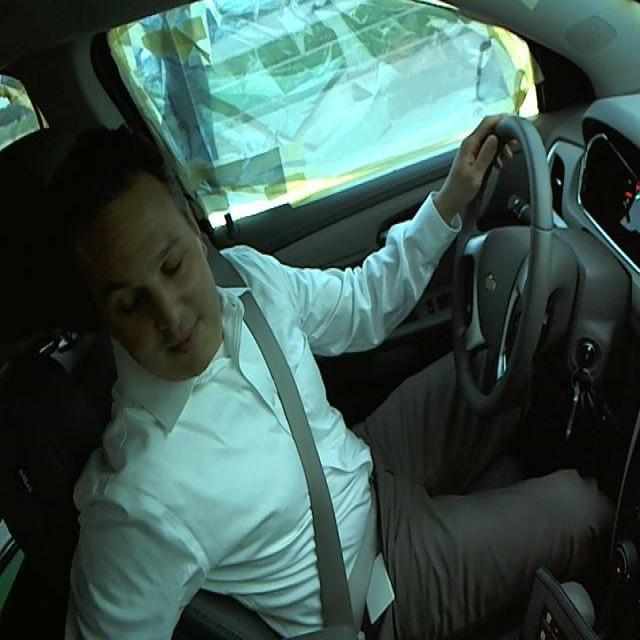seatbelt: (233, 293, 390, 623)
